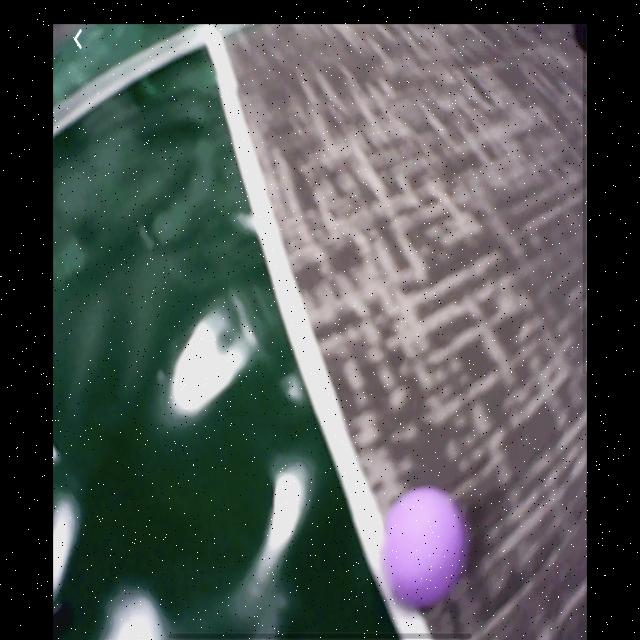ball: (381, 485, 469, 612)
